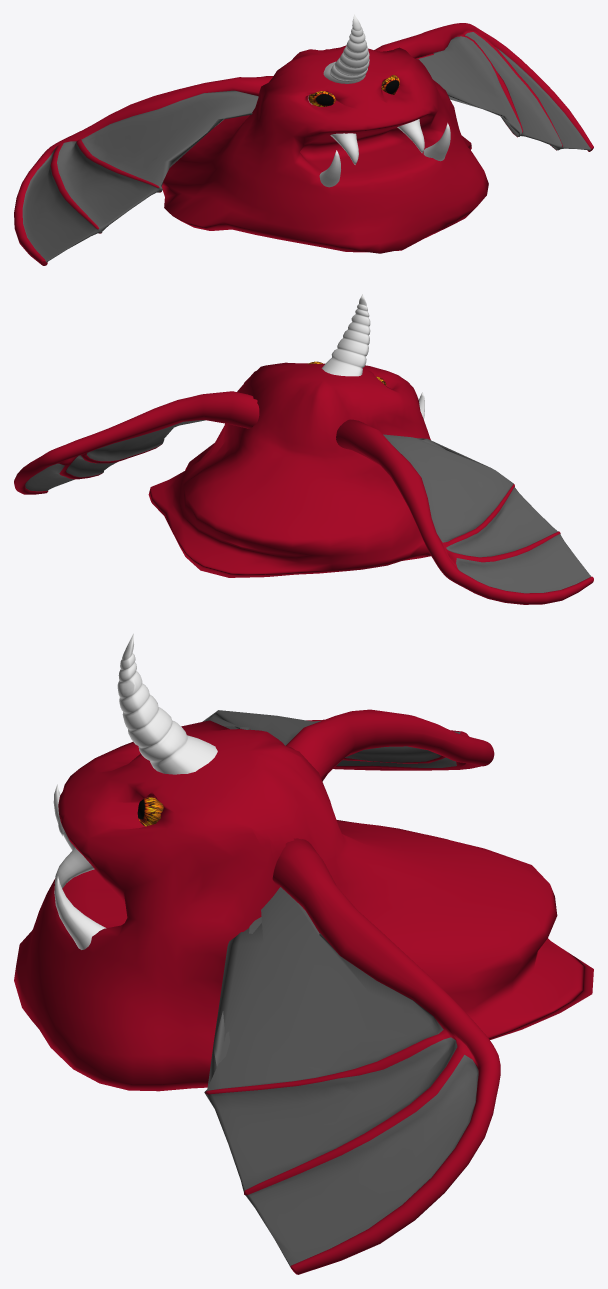
Rendered from boss_hinten3.fbx.
3 renders of one model, top to bottom at view 1: azimuth 30°, elevation 25°; view 2: azimuth 150°, elevation 25°; view 3: azimuth 270°, elevation 25°, orthographic. The views are drawn at different scales.
Parts seen in each view (by area): view 1: polySurface18; view 2: polySurface18; view 3: polySurface18.
Boxes of the visible parts, x1=… form: polySurface18: x1=14, y1=14, x2=593, y2=265; polySurface18: x1=14, y1=294, x2=593, y2=604; polySurface18: x1=14, y1=633, x2=593, y2=1274.
Bounding box in the file's own units: 8.9 × 3.64 × 4.69.
4 materials, 1 textured.
